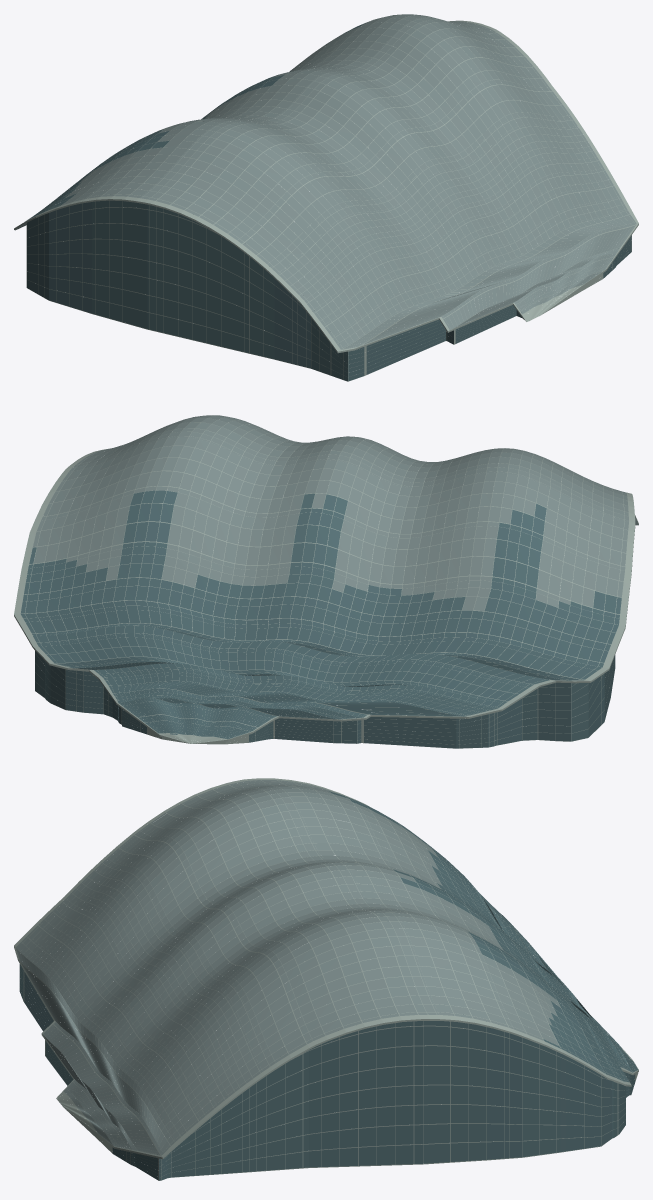
Rendered from sage-gateshead-near.glb.
3 views of the same model, one above another, from view 1: azimuth 30°, elevation 25°; view 2: azimuth 150°, elevation 25°; view 3: azimuth 270°, elevation 25° (orthographic). The views are drawn at different scales.
Parts seen in each view (by area): view 1: sage-gateshead-0-steel, sage-gateshead-0-glass, sage-gateshead-0-frame; view 2: sage-gateshead-0-glass, sage-gateshead-0-steel, sage-gateshead-0-frame; view 3: sage-gateshead-0-steel, sage-gateshead-0-glass, sage-gateshead-0-frame.
Boxes of the visible parts, x1,y1,x2,y2 form: sage-gateshead-0-steel: [14, 14, 636, 349]; sage-gateshead-0-glass: [25, 23, 631, 381]; sage-gateshead-0-frame: [14, 15, 638, 381]; sage-gateshead-0-glass: [20, 490, 621, 748]; sage-gateshead-0-steel: [33, 415, 638, 610]; sage-gateshead-0-frame: [14, 415, 638, 748]; sage-gateshead-0-steel: [16, 780, 560, 1155]; sage-gateshead-0-glass: [19, 791, 638, 1180]; sage-gateshead-0-frame: [14, 778, 638, 1180].
Size of the model in its own units: 119 by 40.01 by 111.
